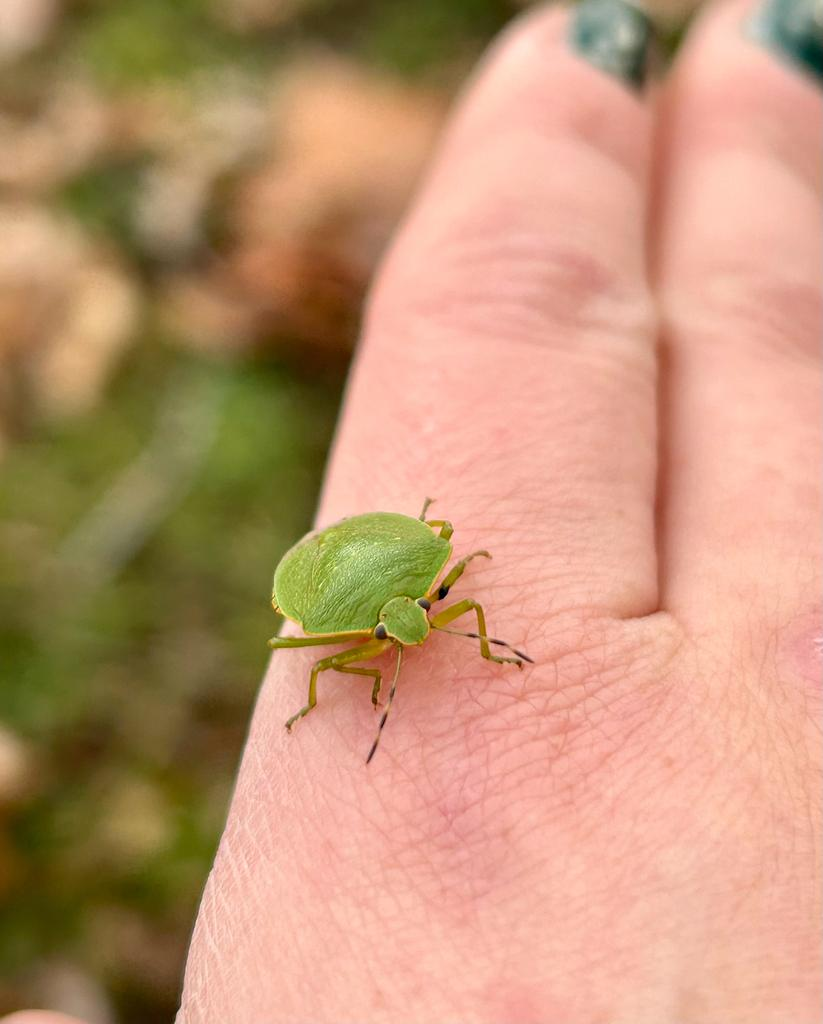stink_bugs: (207, 458, 598, 830)
